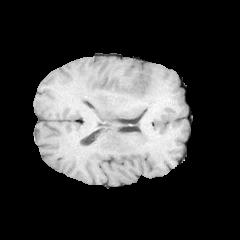glioma: (76, 61, 177, 129)
